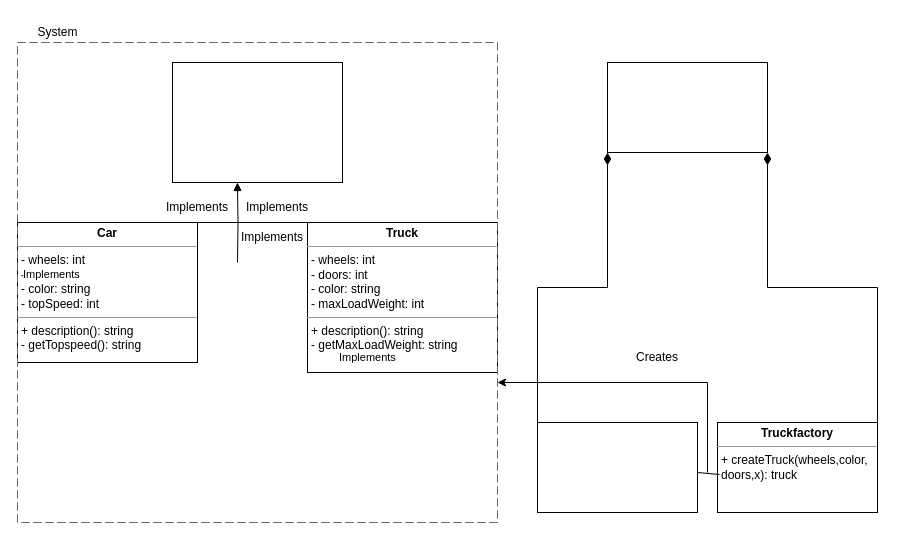
Image size: 907x540. Some labels were removed from this diagram. The shapes that lost their labels are listed below. From the top down, each one's centre as x and y in pixels, then its label:
(257,122): Vehicle + wheels: int + doors: int + color: string + description(): string
(687,107): Vehiclefactory + createVehicle(wheels, color, doors, x): vehicle
(617,467): Carfactory + createCar(wheels, color, doors,x): car
